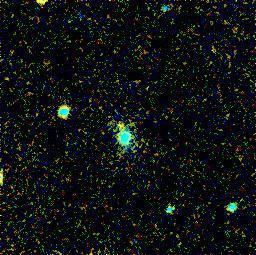star: (106, 108, 136, 138)
